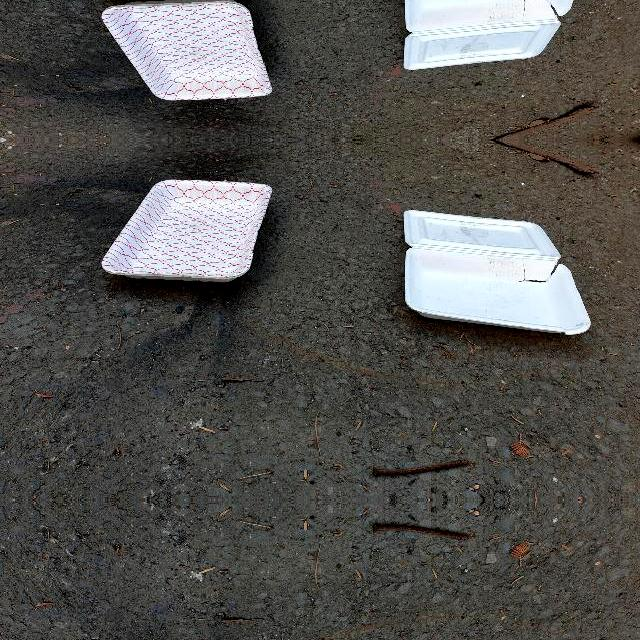Styrofoam: (402, 208, 592, 334), (404, 210, 592, 334), (101, 179, 272, 282), (101, 178, 273, 280), (101, 0, 273, 102), (101, 0, 272, 101), (402, 0, 591, 72), (404, 0, 575, 70)
